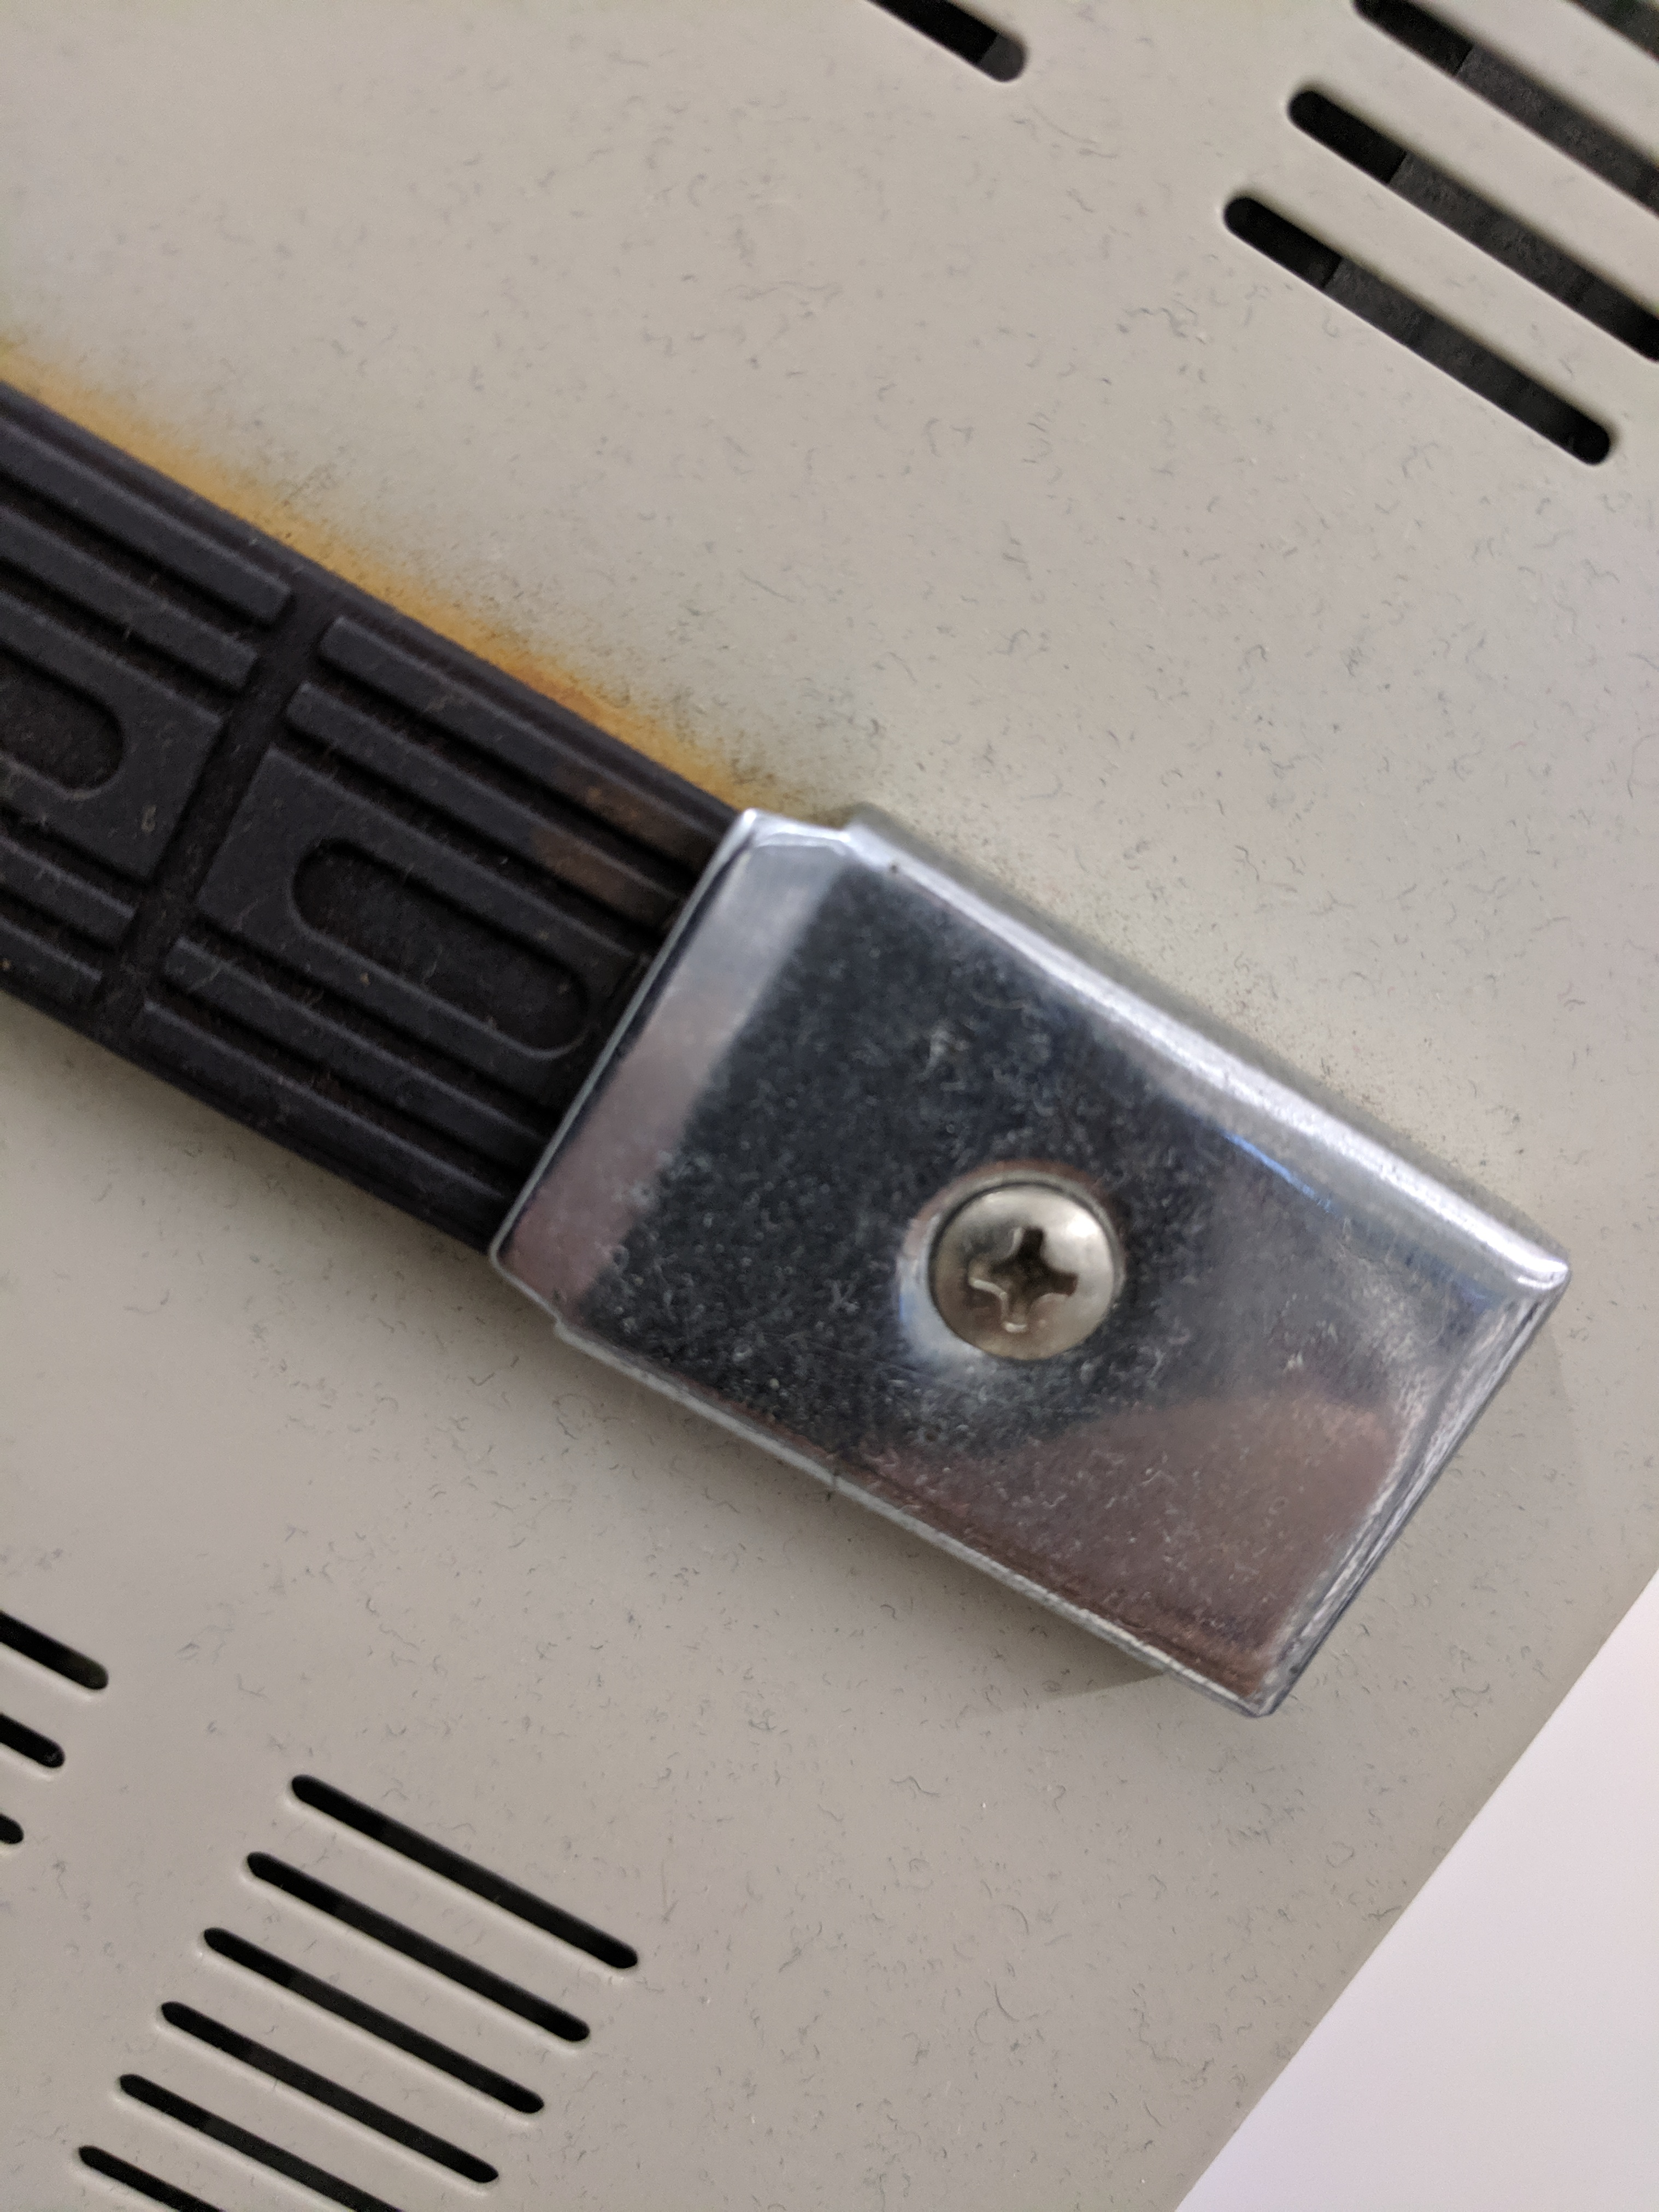cross_recessed_screw: (918, 1179, 1121, 1362)
